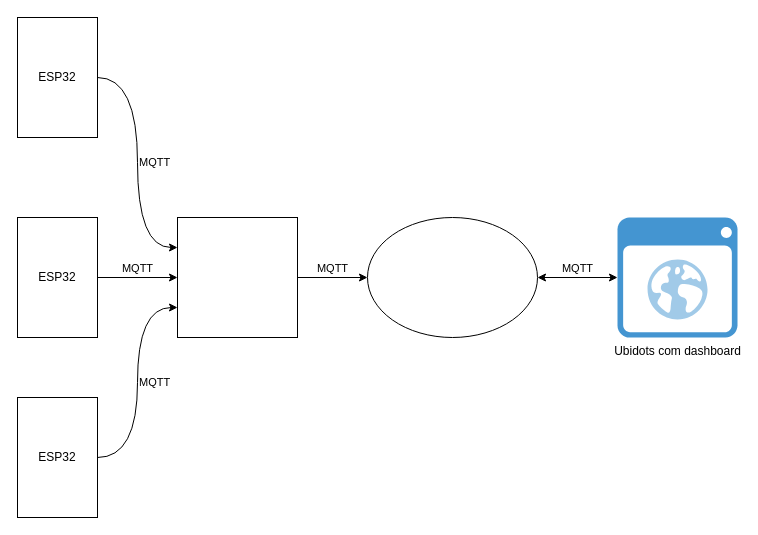
Some shapes in this 758 by 535 pixel diagram are drawn without their labels. The shapes that lost their labels are listed below. From the top down, each one's centre as x and y in pixels, then its label:
the point at 237,277: Broker MQTTx
the point at 452,277: Node-RED
